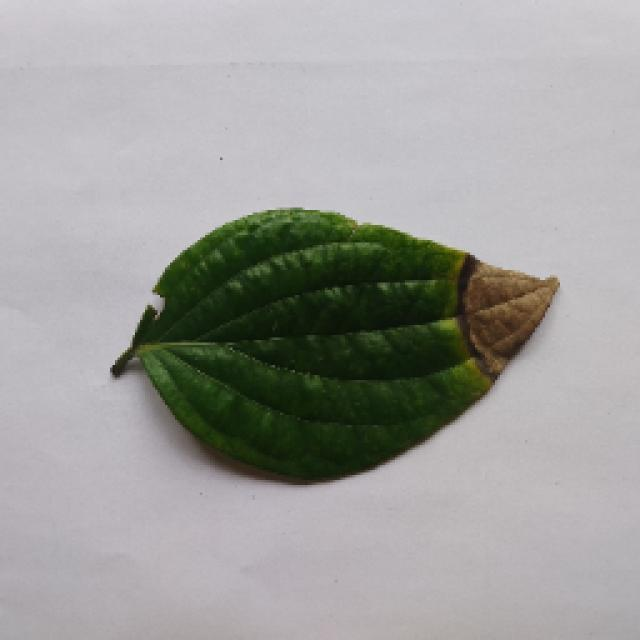footrot: (110, 208, 555, 480)
